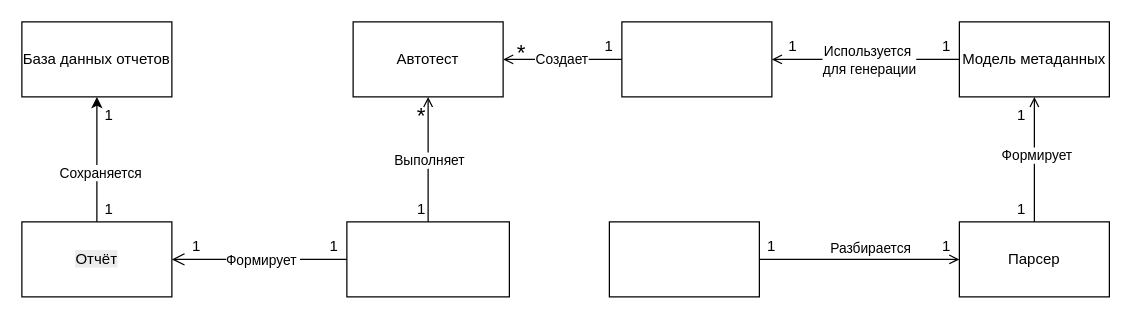
This 1131x319 diagram has some shape labels left out. Here are the shapes that lost their labels. From the top down, the box of each, then its label:
(621, 21, 772, 97): Генератор автотестов
(346, 221, 509, 297): СессияТестирования
(608, 221, 759, 297): Файл метаданных (XML)
